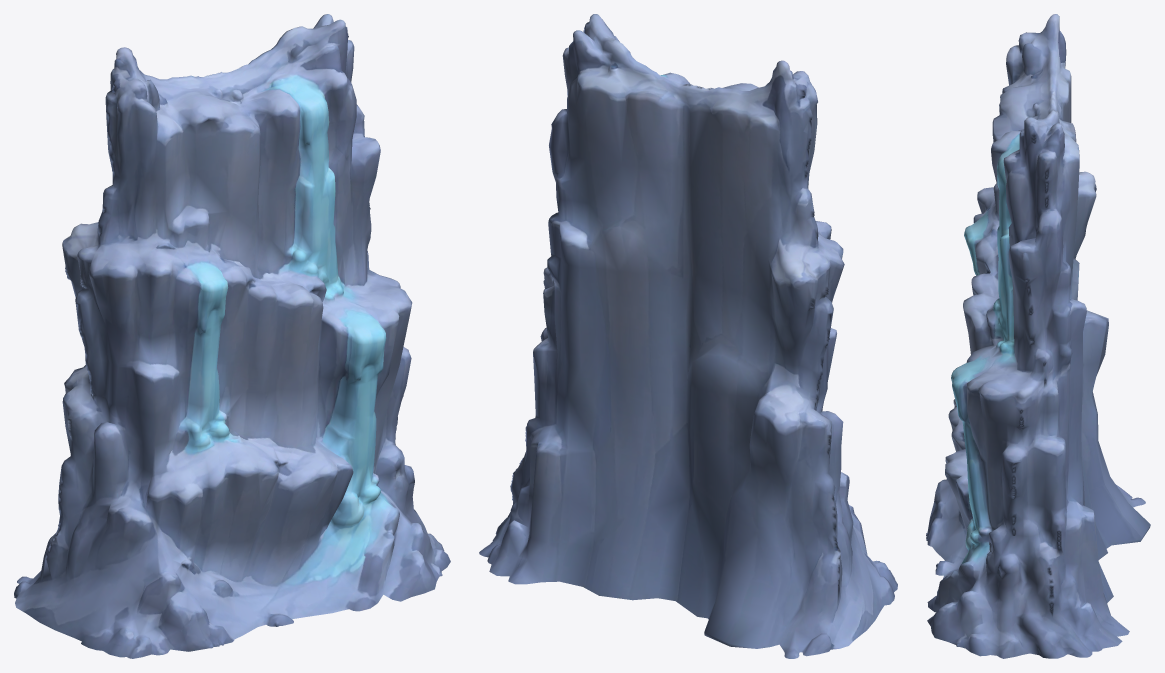
Rendered from SM_Tripo_FrostCanyonCliff.glb.
3 renders of one model, left to right at view 1: azimuth 30°, elevation 25°; view 2: azimuth 150°, elevation 25°; view 3: azimuth 270°, elevation 25°, orthographic. The views are drawn at different scales.
Parts seen in each view (by area): view 1: SM_Tripo_FrostCanyonCliff_LOD0; view 2: SM_Tripo_FrostCanyonCliff_LOD0; view 3: SM_Tripo_FrostCanyonCliff_LOD0.
Part boxes in pixels (x1,y1,x2,y2): SM_Tripo_FrostCanyonCliff_LOD0: [14, 14, 450, 658]; SM_Tripo_FrostCanyonCliff_LOD0: [479, 14, 897, 658]; SM_Tripo_FrostCanyonCliff_LOD0: [926, 14, 1150, 658].
Bounding box in the file's own units: 14.17 × 19.74 × 7.84.
Materials: 1 (1 with a texture image).
